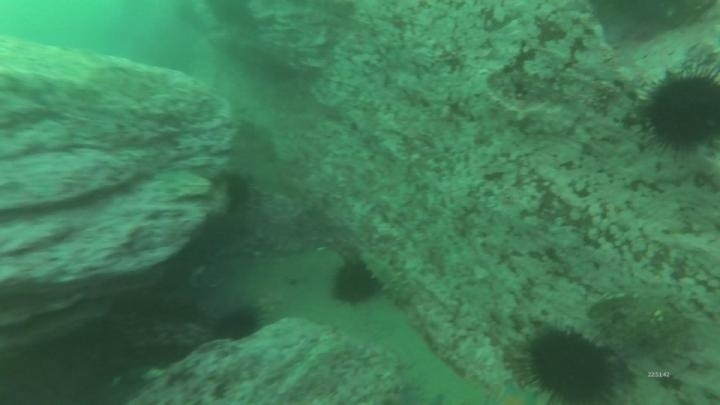echinus: (514, 323, 622, 404), (639, 65, 720, 156), (329, 258, 379, 308), (210, 304, 264, 344), (205, 0, 256, 29), (221, 171, 255, 211)
holothurian: (357, 247, 417, 307)
starfish: (491, 377, 542, 403)
